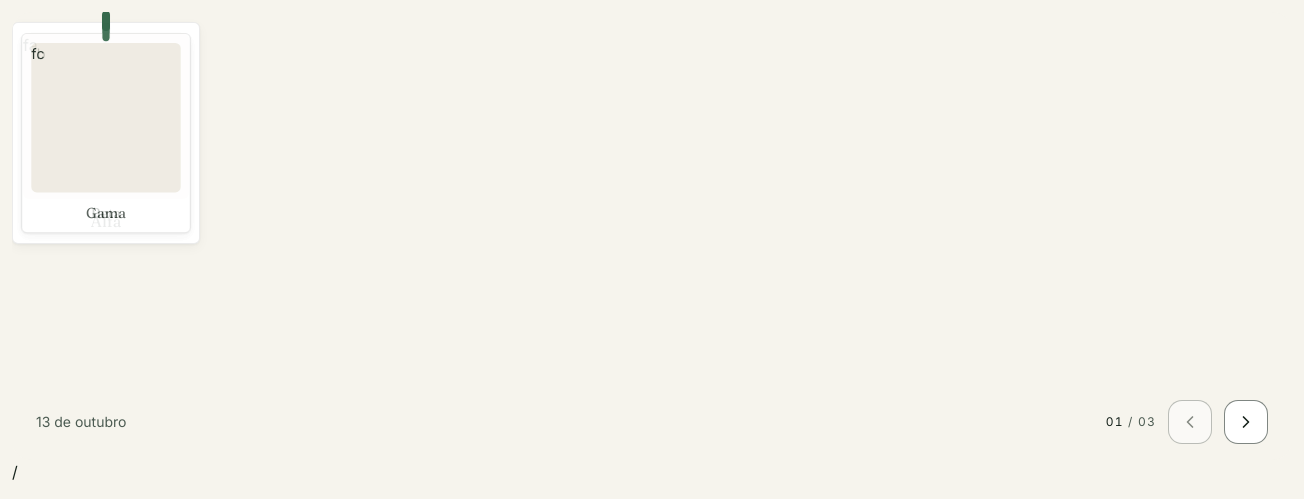
Test: PolaroidLineCarousel › clicar numa foto fora do centro a traz para o centro; só a ativa navega
Step 1. Click the link "fc Gama" → [106, 133], box [21,33,191,233]
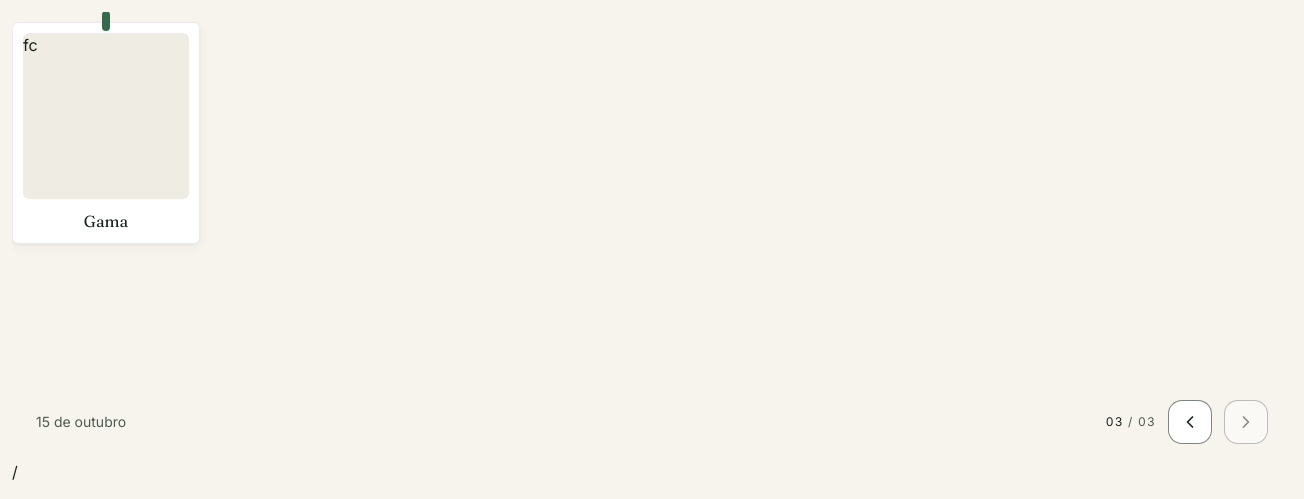
Expected: the text named "rota" reads "/", [12,462,18,482]
Step 2. Click the link "fc Gama" → [106, 133], box [12,22,200,244]
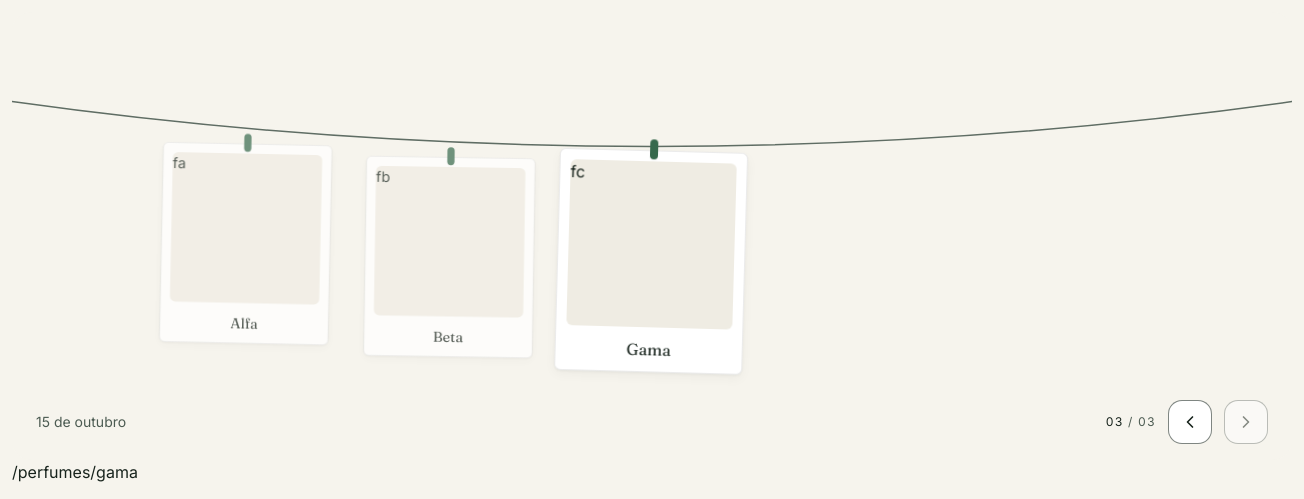
Expected: the text named "rota" reads "/perfumes/gama", [12,462,138,482]
